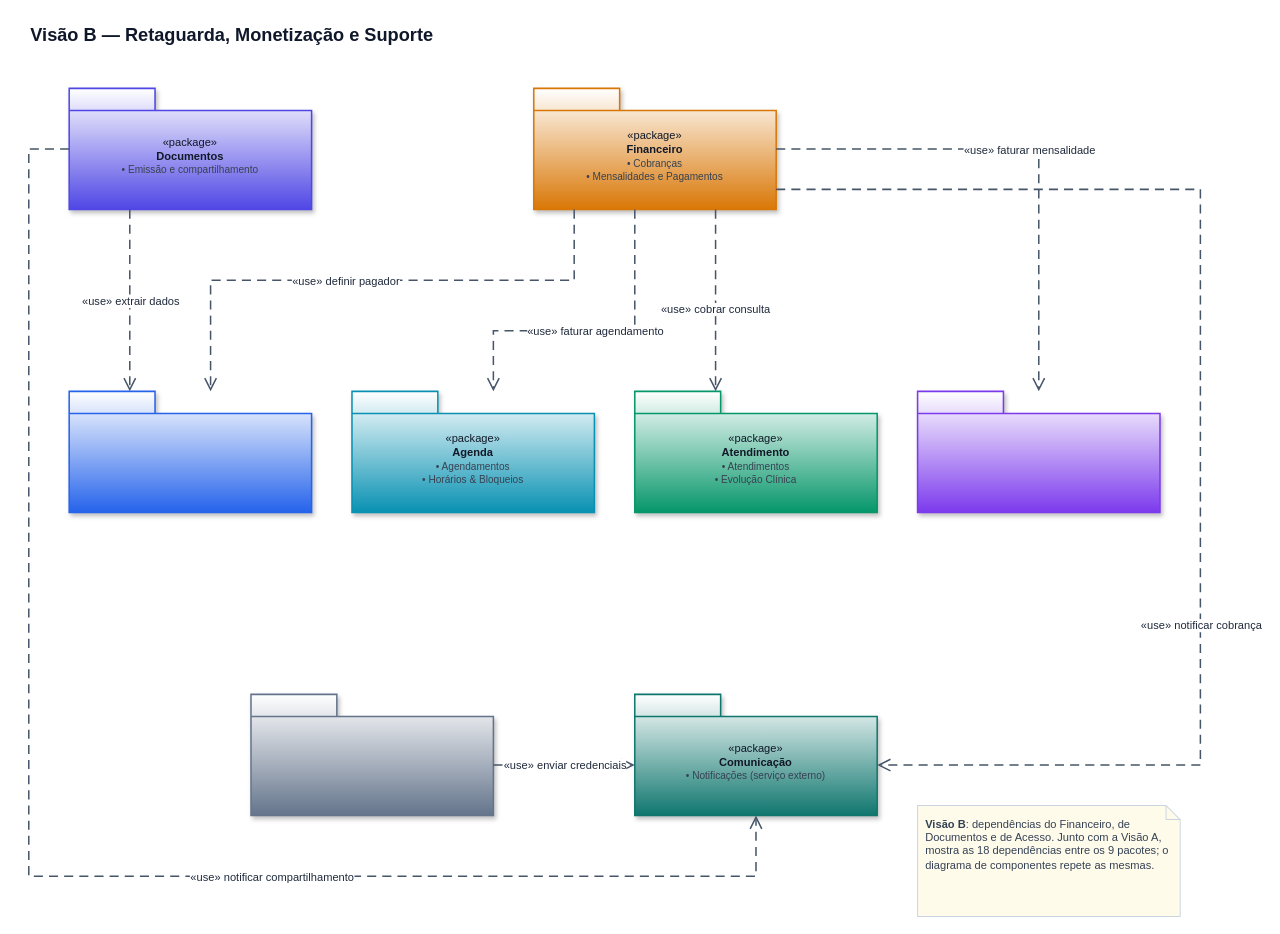
Some shapes in this 1280 by 934 pixel diagram are drawn without their labels. The centre of each missing label's shape, as x and y in pixels:
"«package» Acesso • Gestão de Credenciais • Permissões & Perfis" belongs at (373,756).
"«package» Pessoas • Pacientes • Responsáveis e Psicólogos" belongs at (191,453).
"«package» Recorrência • Recorrências • Materialização de agendamentos" belongs at (1039,453).
